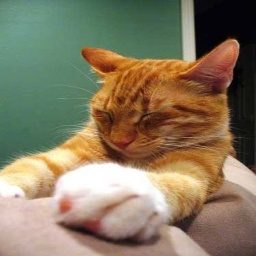cat: (2, 39, 241, 241)
